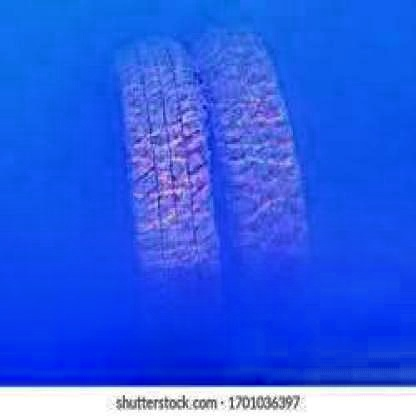tire: (206, 27, 338, 325), (123, 54, 226, 313)
